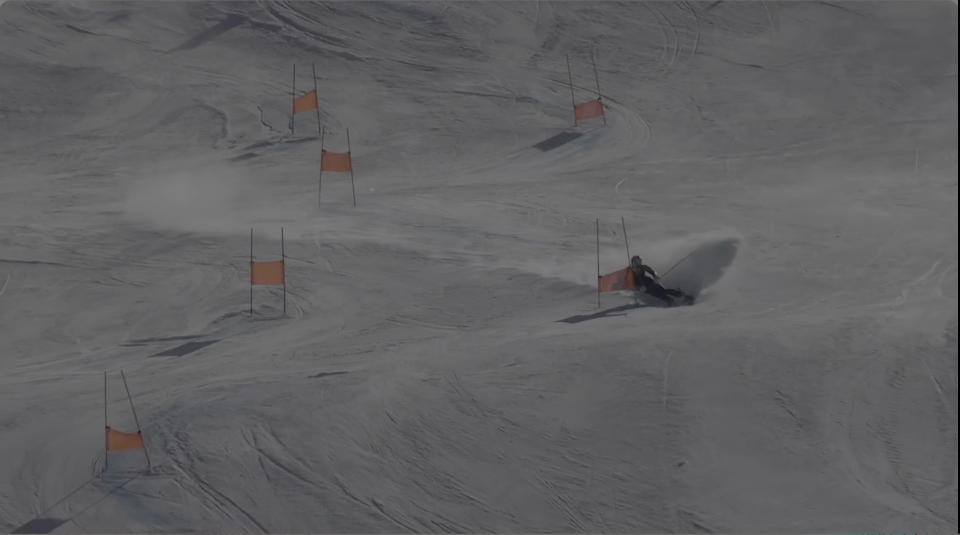gate: (116, 372, 161, 493), (90, 363, 121, 490), (582, 215, 611, 318), (273, 215, 297, 319), (239, 216, 261, 324)
